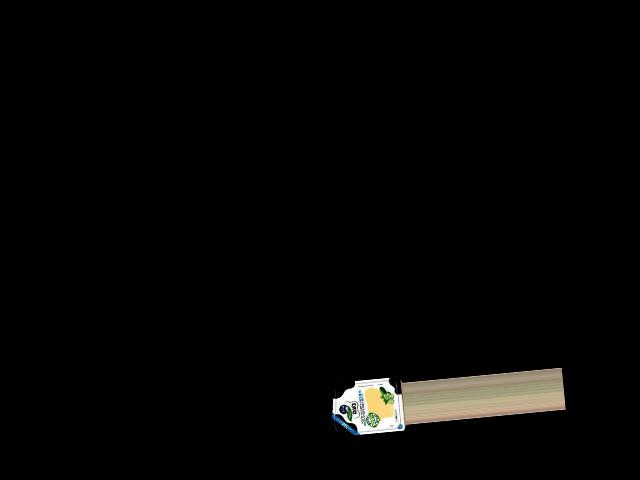cheese: (329, 373, 408, 440)
